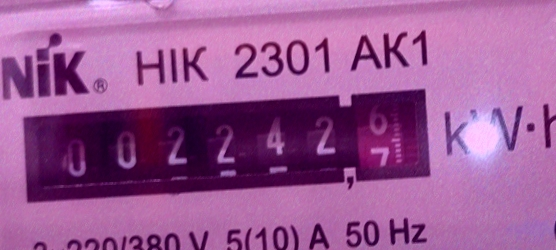0: (112, 127, 139, 170), (163, 123, 189, 166), (64, 134, 88, 179)
2: (311, 112, 337, 157), (212, 121, 237, 165)
4: (261, 113, 286, 157)
6: (365, 102, 390, 136)
7: (367, 144, 391, 168)
screen: (11, 77, 447, 217)
